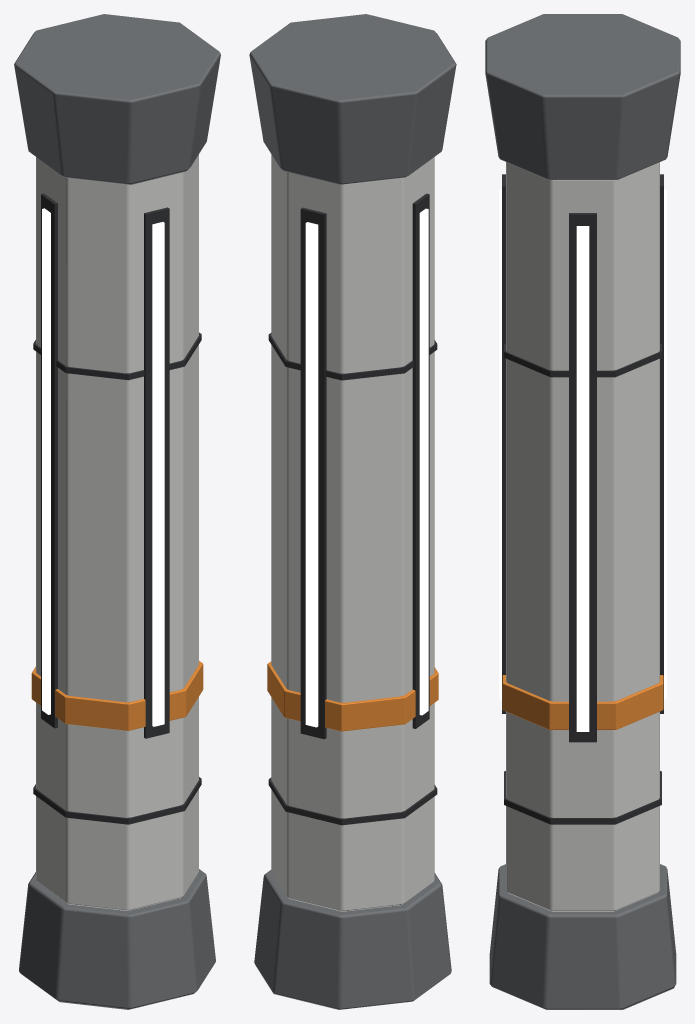
File: kit_pillar.glb
The picture shows the model from 3 angles, left to right: view 1: azimuth 30°, elevation 25°; view 2: azimuth 150°, elevation 25°; view 3: azimuth 270°, elevation 25°; orthographic projection.
Visible parts, largest first — view 1: kit_pillar; view 2: kit_pillar; view 3: kit_pillar.
Boxes of the visible parts, left/top/right/bottom form: kit_pillar: left=14, top=14, right=220, bottom=1009; kit_pillar: left=249, top=14, right=456, bottom=1009; kit_pillar: left=485, top=14, right=680, bottom=1009.
Bounding box in the file's own units: 0.7728 × 4 × 0.7728.
